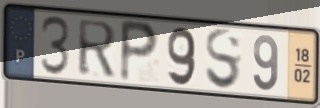3: (39, 14, 72, 77)
9: (165, 25, 198, 88), (251, 32, 280, 94)
P: (117, 17, 161, 86)
R: (76, 18, 119, 78)
S: (203, 27, 243, 93)
